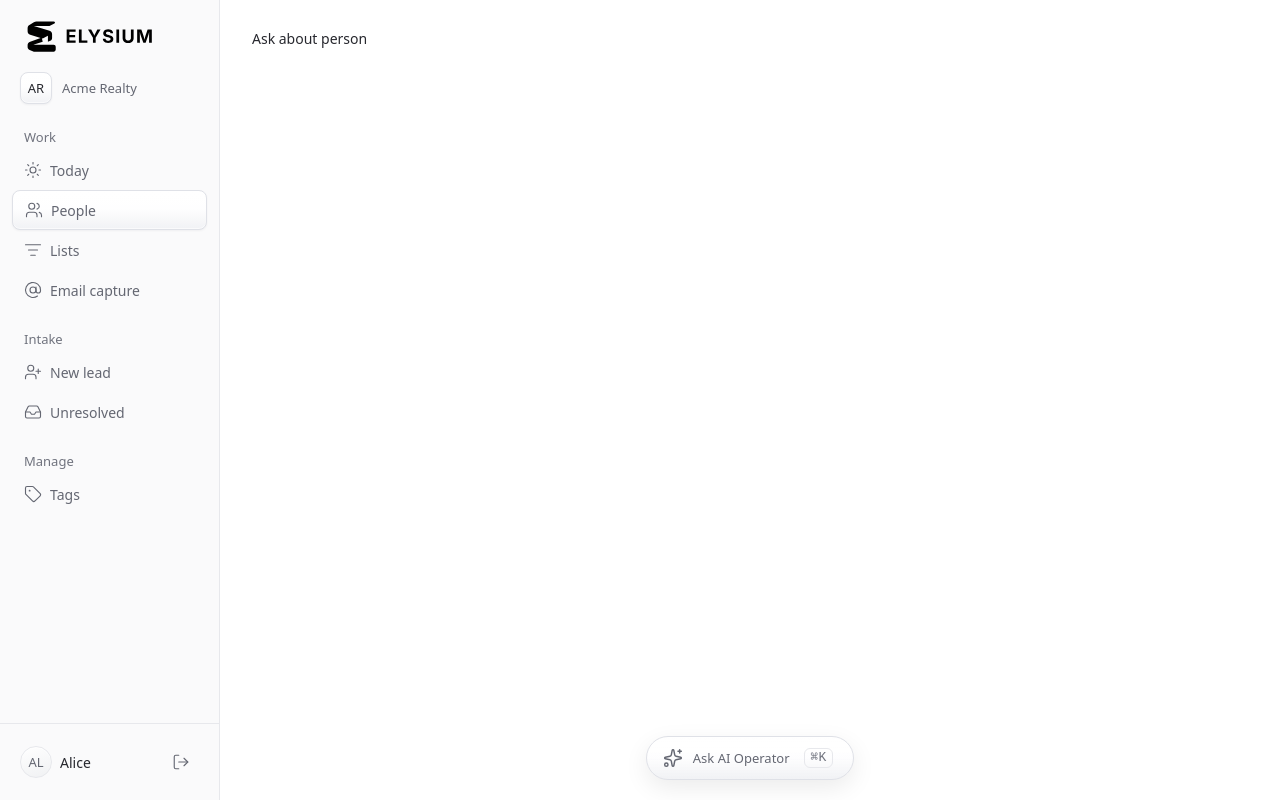
Scenario: opens the person route before launching the Operator without sending a turn
Click the button with test id "preview-ask".
click(310, 38)  # box [252,28,367,49]
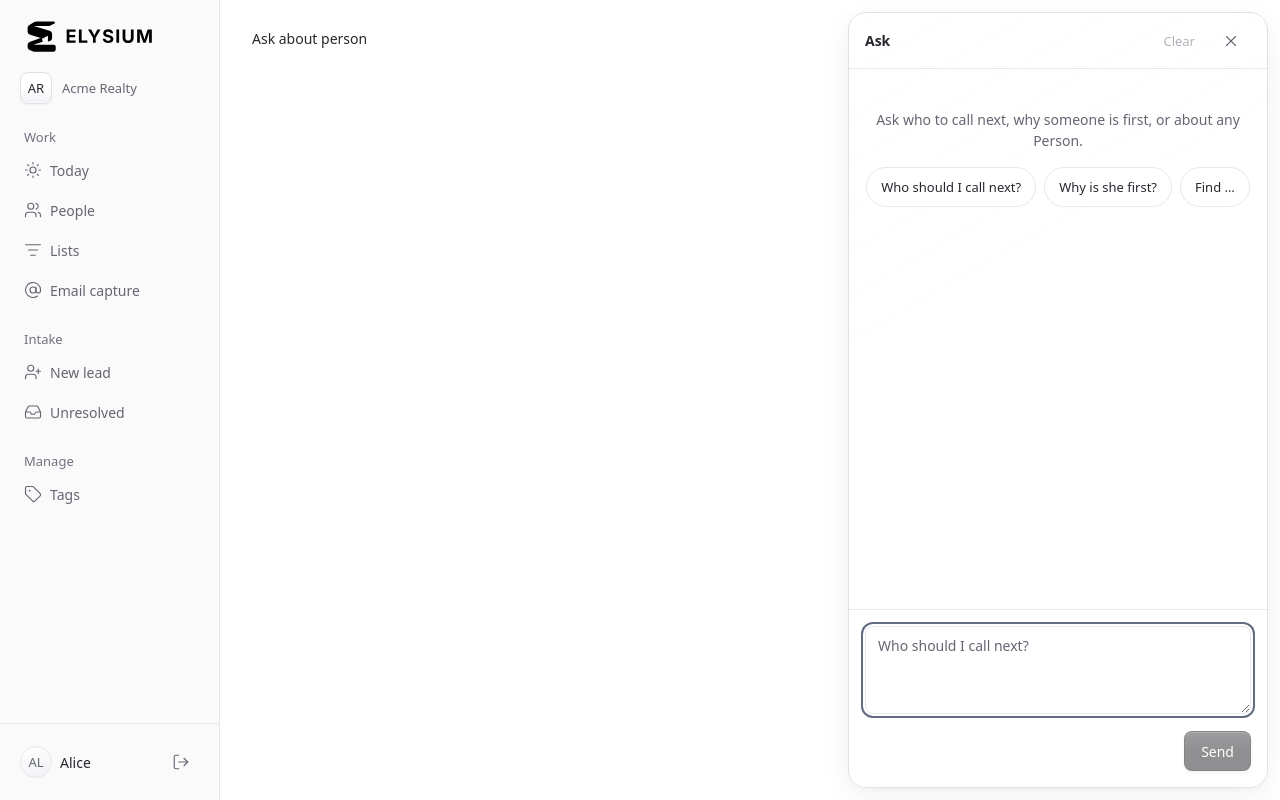
Check: the element with test id "operator-panel" is shown, box [848,12,1268,788]
Check: the text box with test id "operator-input" is empty, box [865,626,1251,714]
